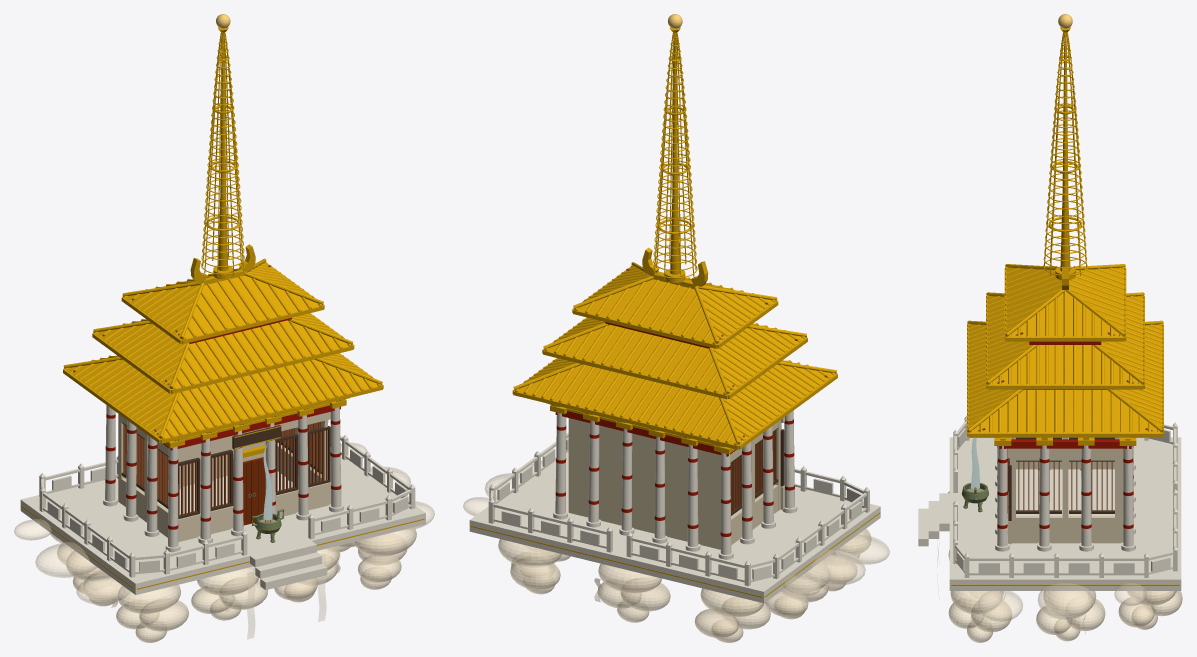
Rendered from xy_lingxiao.glb.
3 renders of one model, left to right at view 1: azimuth 30°, elevation 25°; view 2: azimuth 150°, elevation 25°; view 3: azimuth 270°, elevation 25°, orthographic.
Visible parts, largest first — view 1: xy_lingxiao; view 2: xy_lingxiao; view 3: xy_lingxiao.
Part boxes in pixels (bbox=[...]): xy_lingxiao: bbox=[14, 14, 434, 642]; xy_lingxiao: bbox=[463, 14, 889, 642]; xy_lingxiao: bbox=[918, 14, 1182, 642].
Bounding box in the file's own units: 24 × 35.29 × 14.79.
